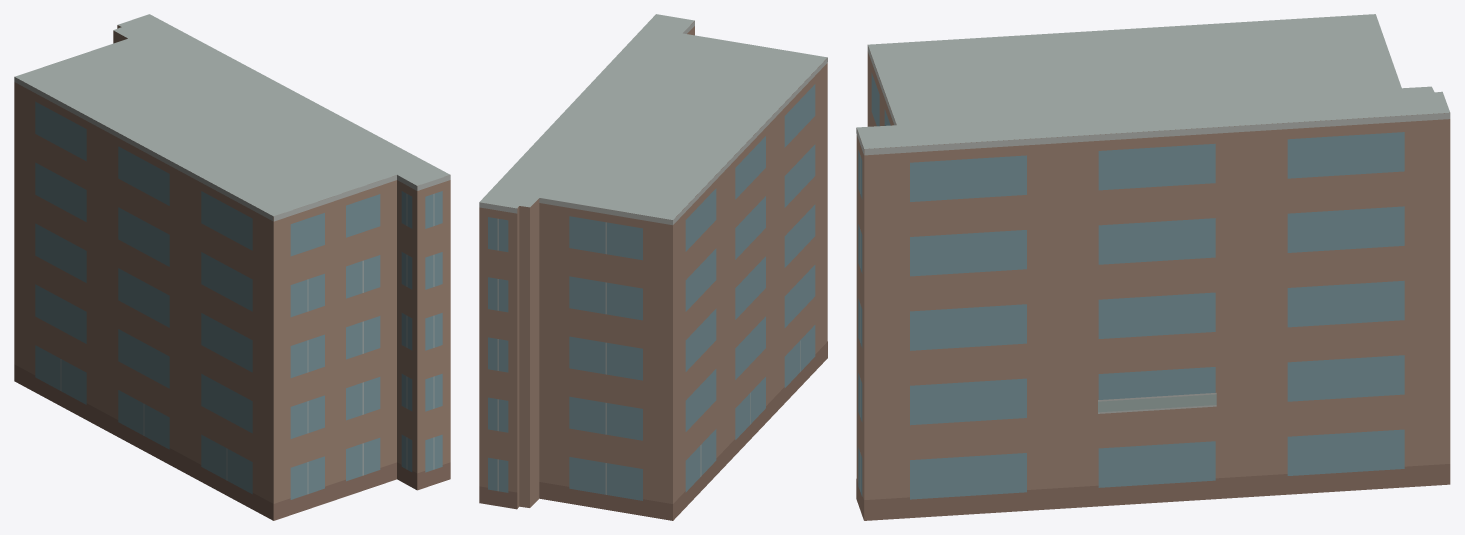
The model's file is survey-upis-32700182.glb.
The picture shows the model from 3 angles, left to right: view 1: azimuth 30°, elevation 25°; view 2: azimuth 150°, elevation 25°; view 3: azimuth 270°, elevation 25°; orthographic projection. The views are drawn at different scales.
Visible parts, largest first — view 1: survey-upis-32700182.tmp; view 2: survey-upis-32700182.tmp; view 3: survey-upis-32700182.tmp.
Boxes of the visible parts, x1=… form: survey-upis-32700182.tmp: x1=14, y1=14, x2=450, y2=520; survey-upis-32700182.tmp: x1=479, y1=14, x2=827, y2=520; survey-upis-32700182.tmp: x1=856, y1=14, x2=1450, y2=520.
Bounding box in the file's own units: 11.15 × 14.3 × 20.71.
